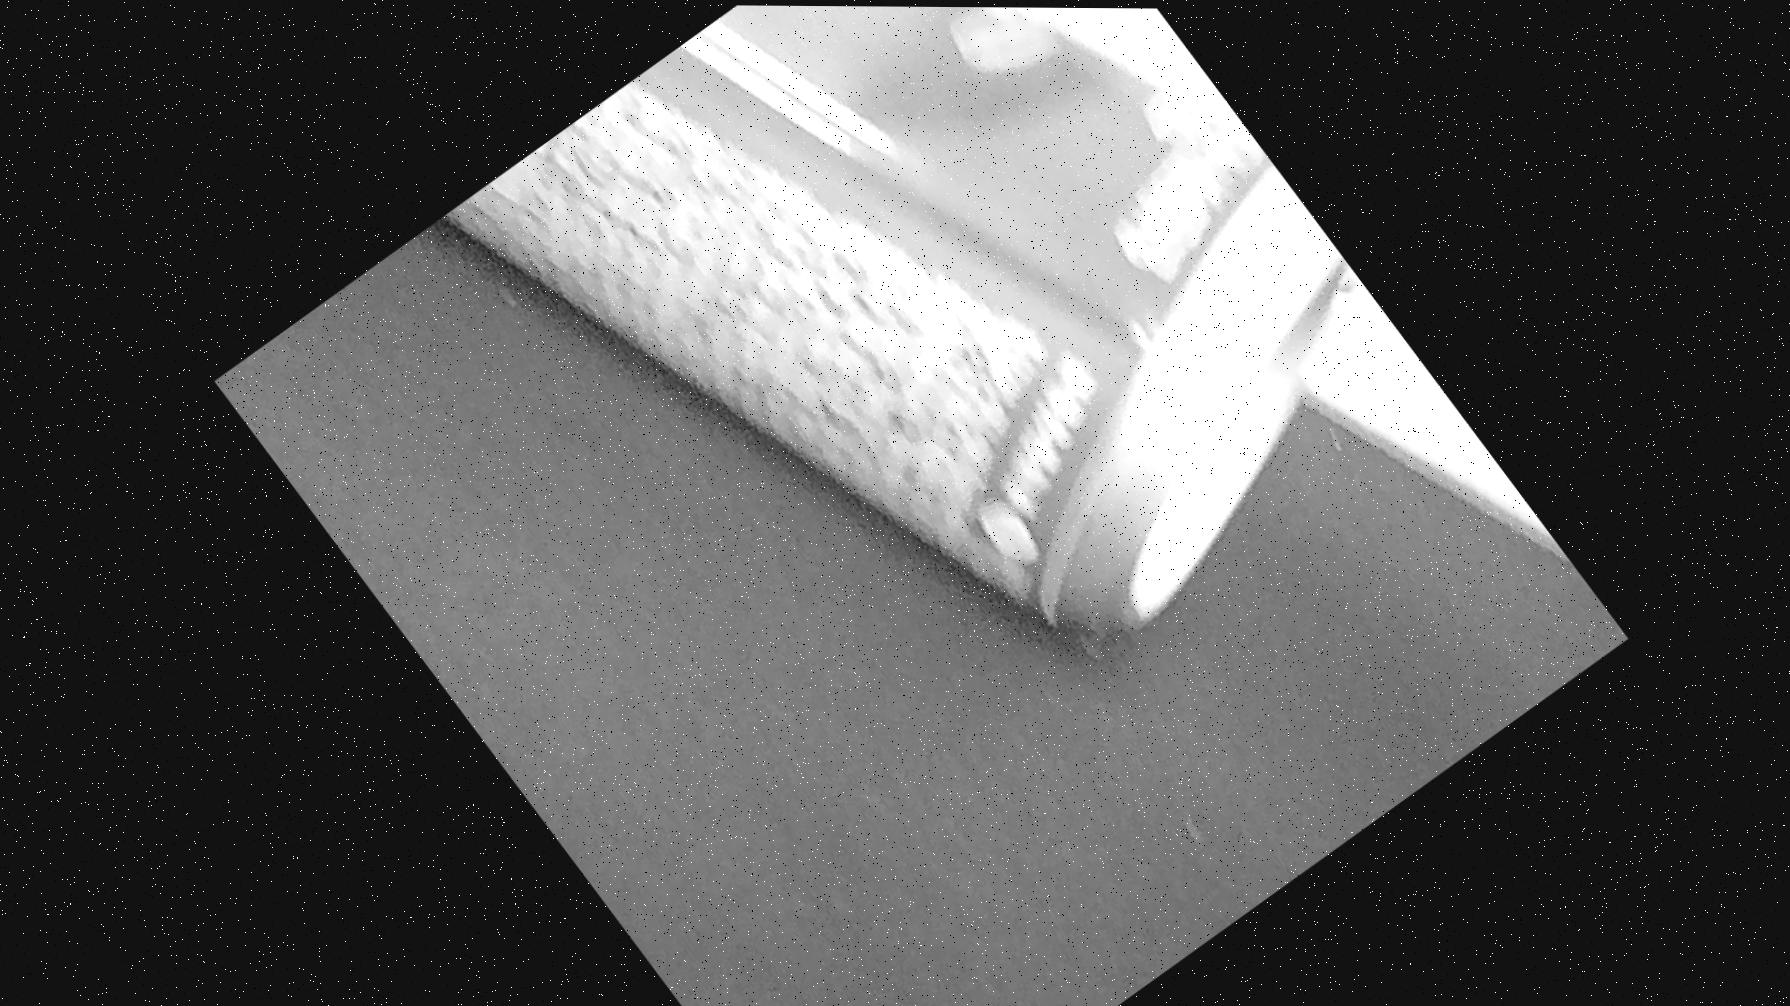letsbe: (393, 2, 1467, 841)
